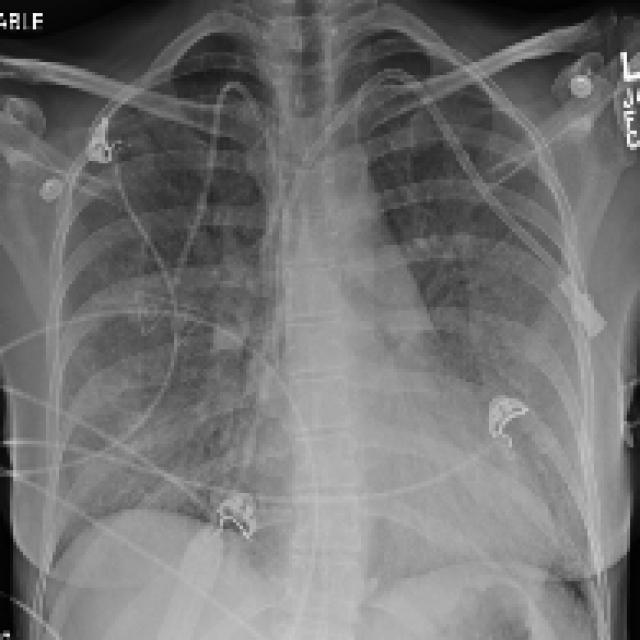coronavirus: (3, 0, 640, 637)
